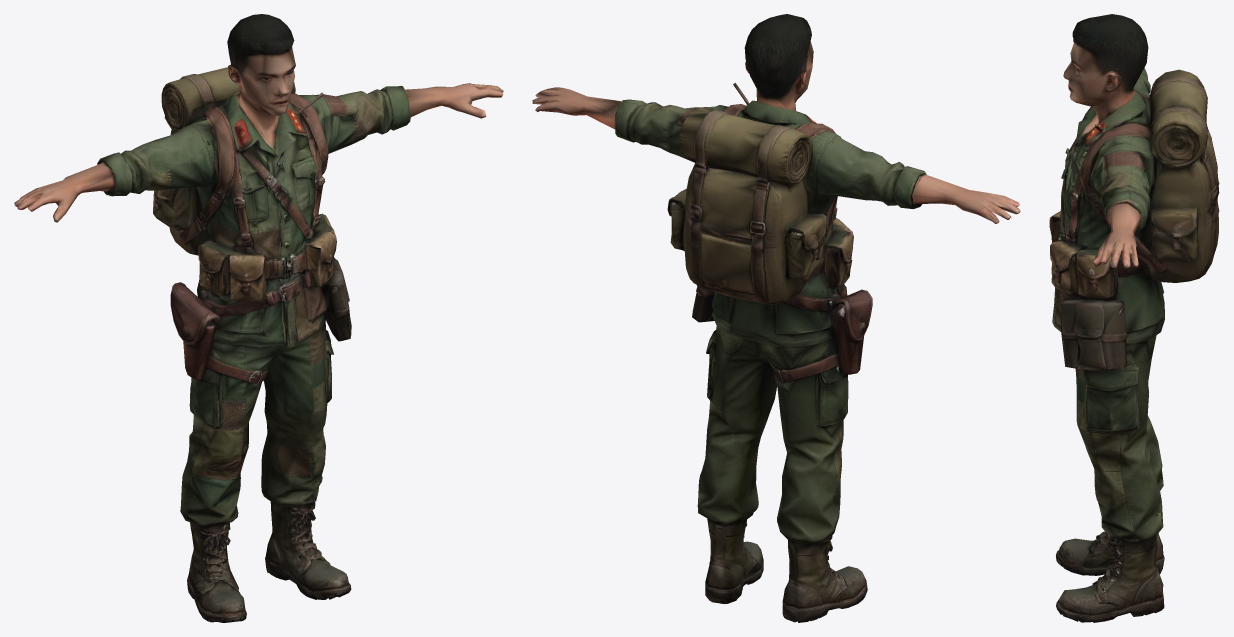
3 renders of one model, left to right at view 1: azimuth 30°, elevation 25°; view 2: azimuth 150°, elevation 25°; view 3: azimuth 270°, elevation 25°, orthographic.
Parts seen in each view (by area): view 1: tripo_node_bf40fbd6-8e3f-4fd8-a7c6-7e5bd332d3f7; view 2: tripo_node_bf40fbd6-8e3f-4fd8-a7c6-7e5bd332d3f7; view 3: tripo_node_bf40fbd6-8e3f-4fd8-a7c6-7e5bd332d3f7.
Boxes of the visible parts, left/top/right/bottom form: tripo_node_bf40fbd6-8e3f-4fd8-a7c6-7e5bd332d3f7: left=14, top=14, right=503, bottom=622; tripo_node_bf40fbd6-8e3f-4fd8-a7c6-7e5bd332d3f7: left=532, top=14, right=1020, bottom=622; tripo_node_bf40fbd6-8e3f-4fd8-a7c6-7e5bd332d3f7: left=1049, top=14, right=1219, bottom=622.
Size of the model in its own units: 0.8579 by 0.9776 by 0.2623.
Materials: 1 (1 with a texture image).
